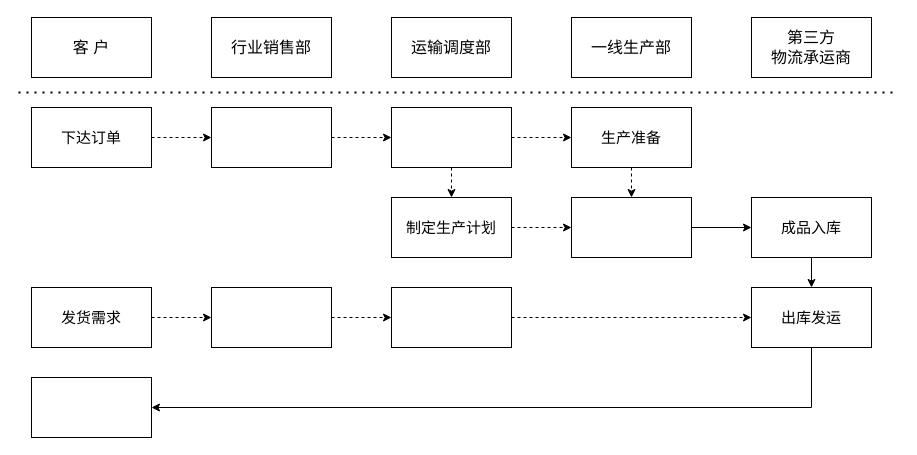
Some shapes in this 917 by 455 pixel diagram are drawn without their labels. Each missing label, with the box of its shape:
下达物流指令: (390, 286, 512, 348)
交付完成: (30, 376, 152, 438)
流转发货需求: (210, 286, 332, 348)
组织实施生产: (570, 196, 692, 258)
评估库存 发布订单: (390, 106, 512, 168)
评估订单: (210, 106, 332, 168)
